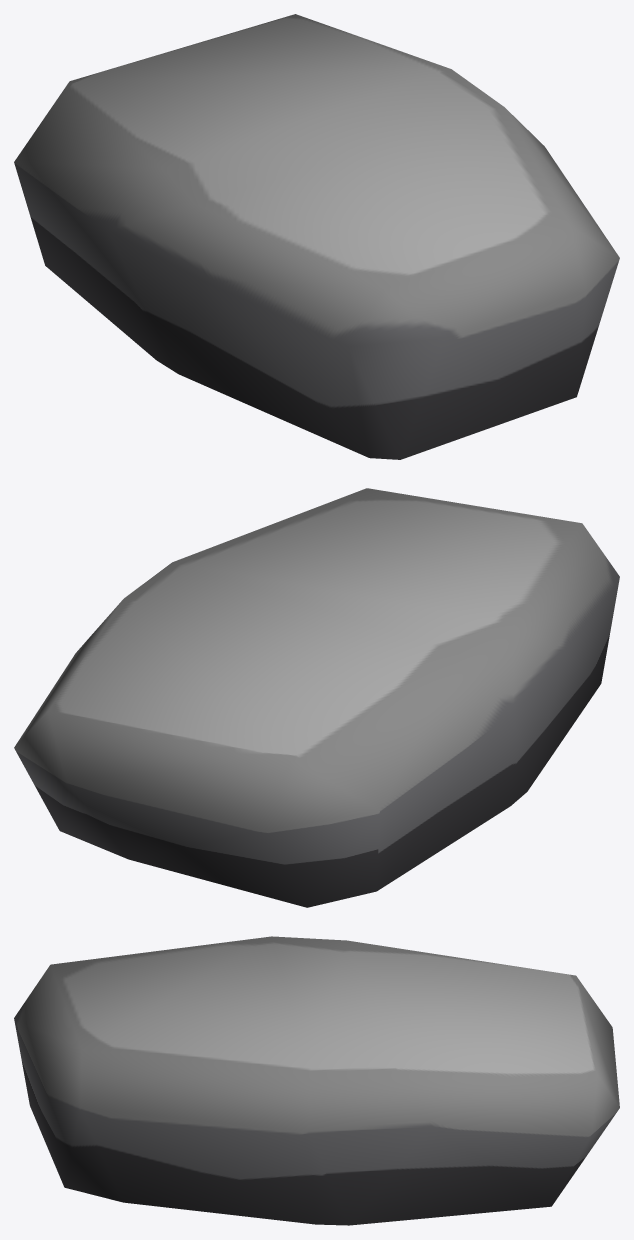
The model's file is Rock.FBX.
The picture shows the model from 3 angles, top to bottom: view 1: azimuth 30°, elevation 25°; view 2: azimuth 150°, elevation 25°; view 3: azimuth 270°, elevation 25°; orthographic projection. The views are drawn at different scales.
Parts seen in each view (by area): view 1: Rock; view 2: Rock; view 3: Rock.
Boxes of the visible parts, x1=… form: Rock: x1=14, y1=14, x2=619, y2=459; Rock: x1=14, y1=488, x2=619, y2=907; Rock: x1=14, y1=936, x2=619, y2=1225.
Bounding box in the file's own units: 5.18 × 2.01 × 7.68.
